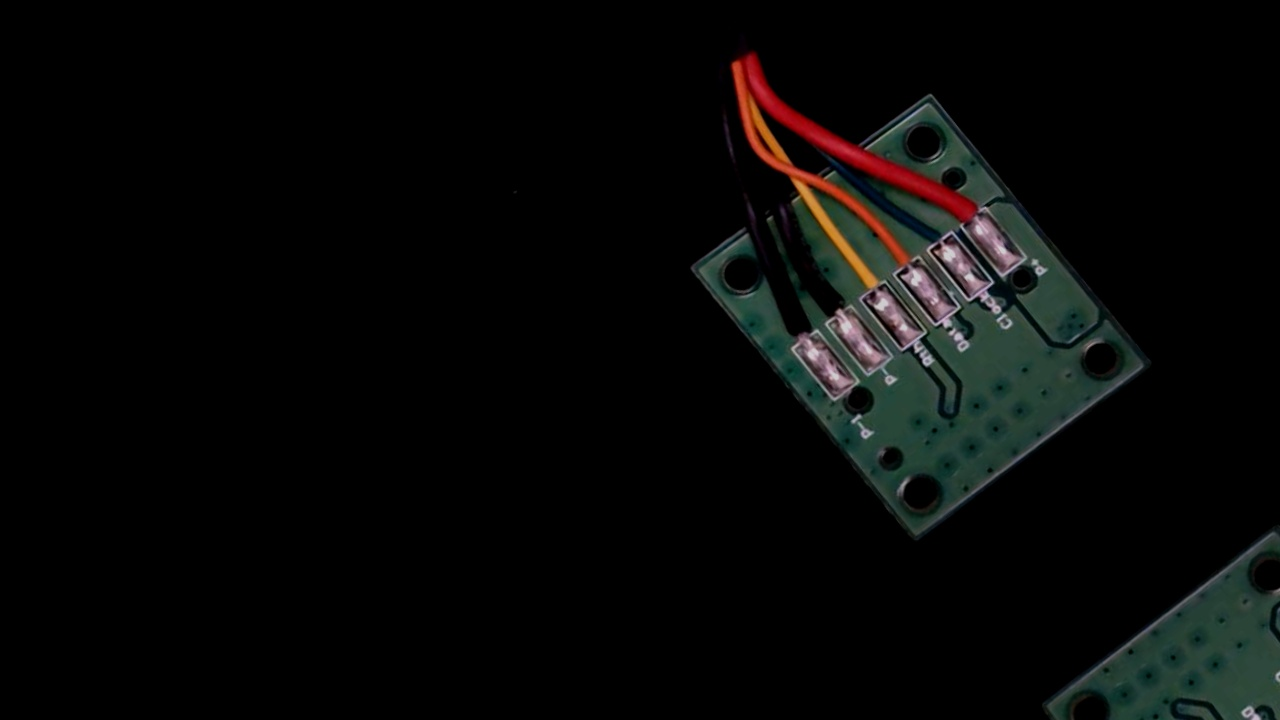Black: (796, 266, 864, 337)
Black1: (756, 289, 830, 367)
Green: (900, 199, 964, 265)
Orange: (861, 217, 931, 290)
Red: (923, 162, 998, 241)
Yellow: (827, 239, 898, 313)
